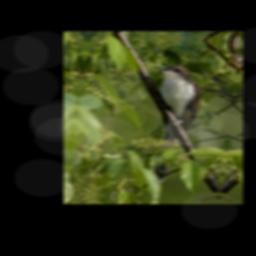Cuckoo: (138, 59, 206, 169)
